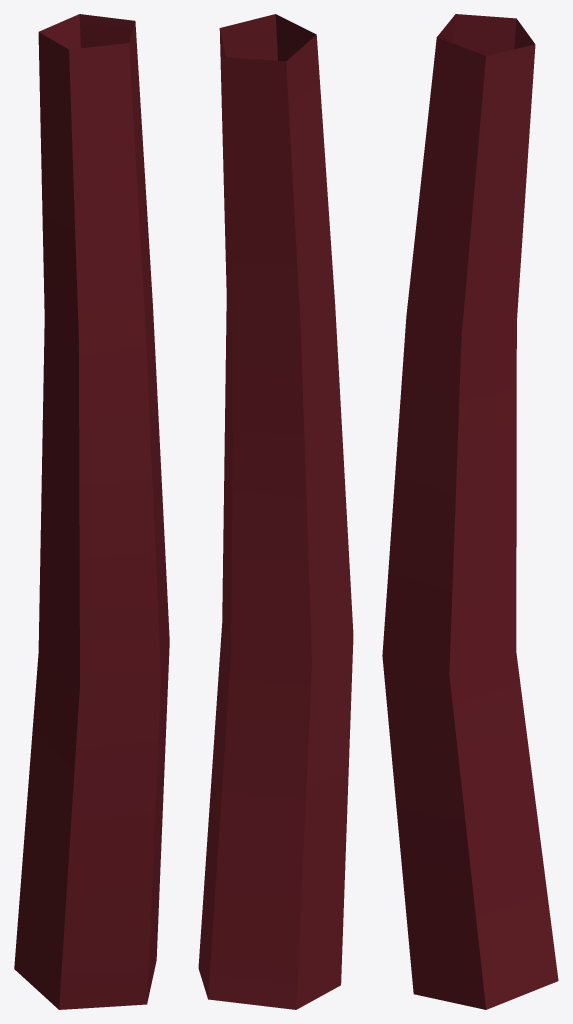
File: dressing_tail_root.glb
3 renders of one model, left to right at view 1: azimuth 30°, elevation 25°; view 2: azimuth 150°, elevation 25°; view 3: azimuth 270°, elevation 25°, orthographic.
Parts seen in each view (by area): view 1: dressing_tail_root; view 2: dressing_tail_root; view 3: dressing_tail_root.
Part boxes in pixels (x1,y1,x2,y2): dressing_tail_root: [14, 14, 169, 1009]; dressing_tail_root: [198, 14, 353, 1009]; dressing_tail_root: [382, 14, 558, 1009].
Size of the model in its own units: 0.0226 by 0.1718 by 0.0288.
